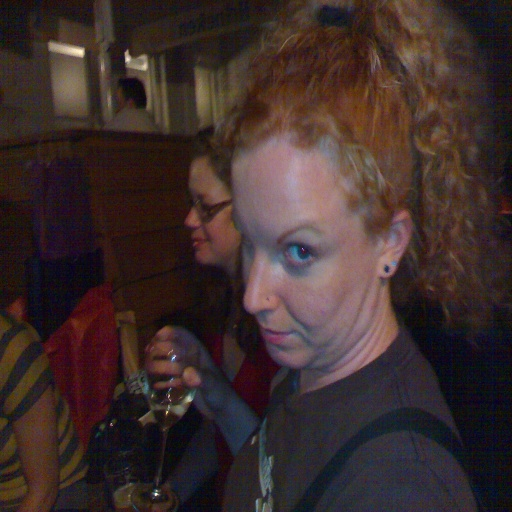hand: (141, 328, 240, 430)
